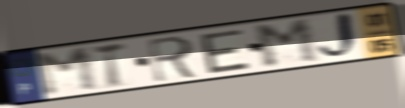E: (197, 28, 252, 76)
J: (316, 10, 362, 63)
M: (251, 17, 322, 70), (31, 45, 102, 98)
R: (146, 34, 201, 84)
T: (90, 40, 129, 90)
